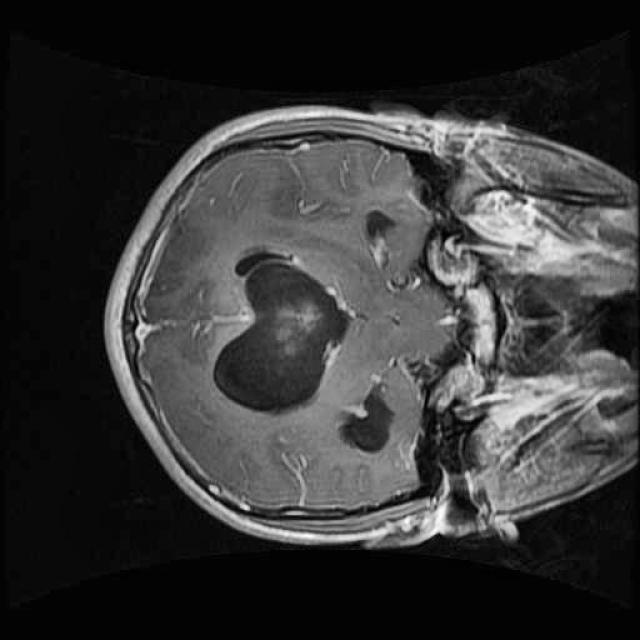Tumor: (196, 238, 360, 430)
